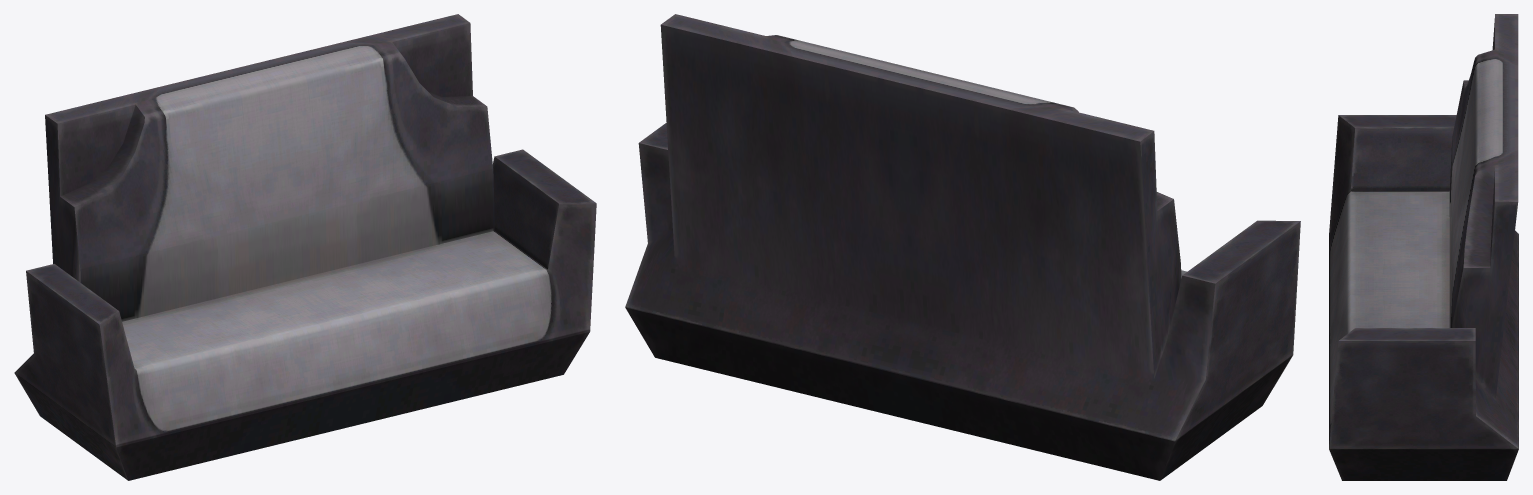
File: frn_all_couch_sm_s1_l0.fbx
3 views of the same model, side by side, from view 1: azimuth 30°, elevation 25°; view 2: azimuth 150°, elevation 25°; view 3: azimuth 270°, elevation 25° (orthographic). The views are drawn at different scales.
Parts seen in each view (by area): view 1: mesh_node; view 2: mesh_node; view 3: mesh_node.
Boxes of the visible parts, left/top/right/bottom form: mesh_node: left=14, top=14, right=596, bottom=480; mesh_node: left=625, top=14, right=1300, bottom=480; mesh_node: left=1329, top=14, right=1518, bottom=480.
Bounding box in the file's own units: 1.99 × 1.12 × 0.7054.
